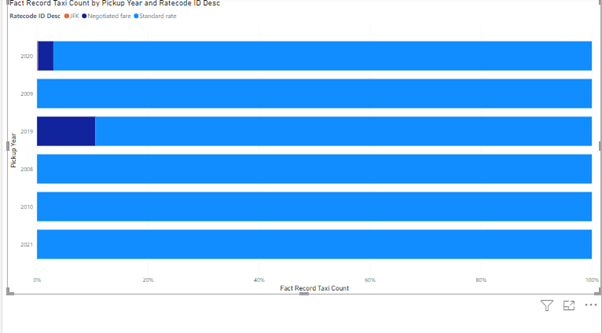

The page's visual inventory and layout, read from the dashboard file:
{"tool":"powerbi","page":{"name":"Page 4","canvas":[1280,720],"ordinal":3},"visuals":[{"type":"hundredPercentStackedBarChart","fields":{"Y":["Fact GT2020.Fact GT2020 Count"],"Category":["Dim Pickup Date.Pickup Year"],"Series":["Dim Rate Code.Ratecode ID Desc"]},"box":[0,0,1280,720.6],"z":0}]}

Visuals, with their boxes on the page's 1280x720 design canvas (x1, y1, x2, y2). These are canvas units, not pixel positions in the 602x333 screenshot, which may show the page scaled, cropped or inside an application window:
hundredPercentStackedBarChart - Fact GT2020.Fact GT2020 Count x Dim Pickup Date.Pickup Year: 0:0:1280:721
